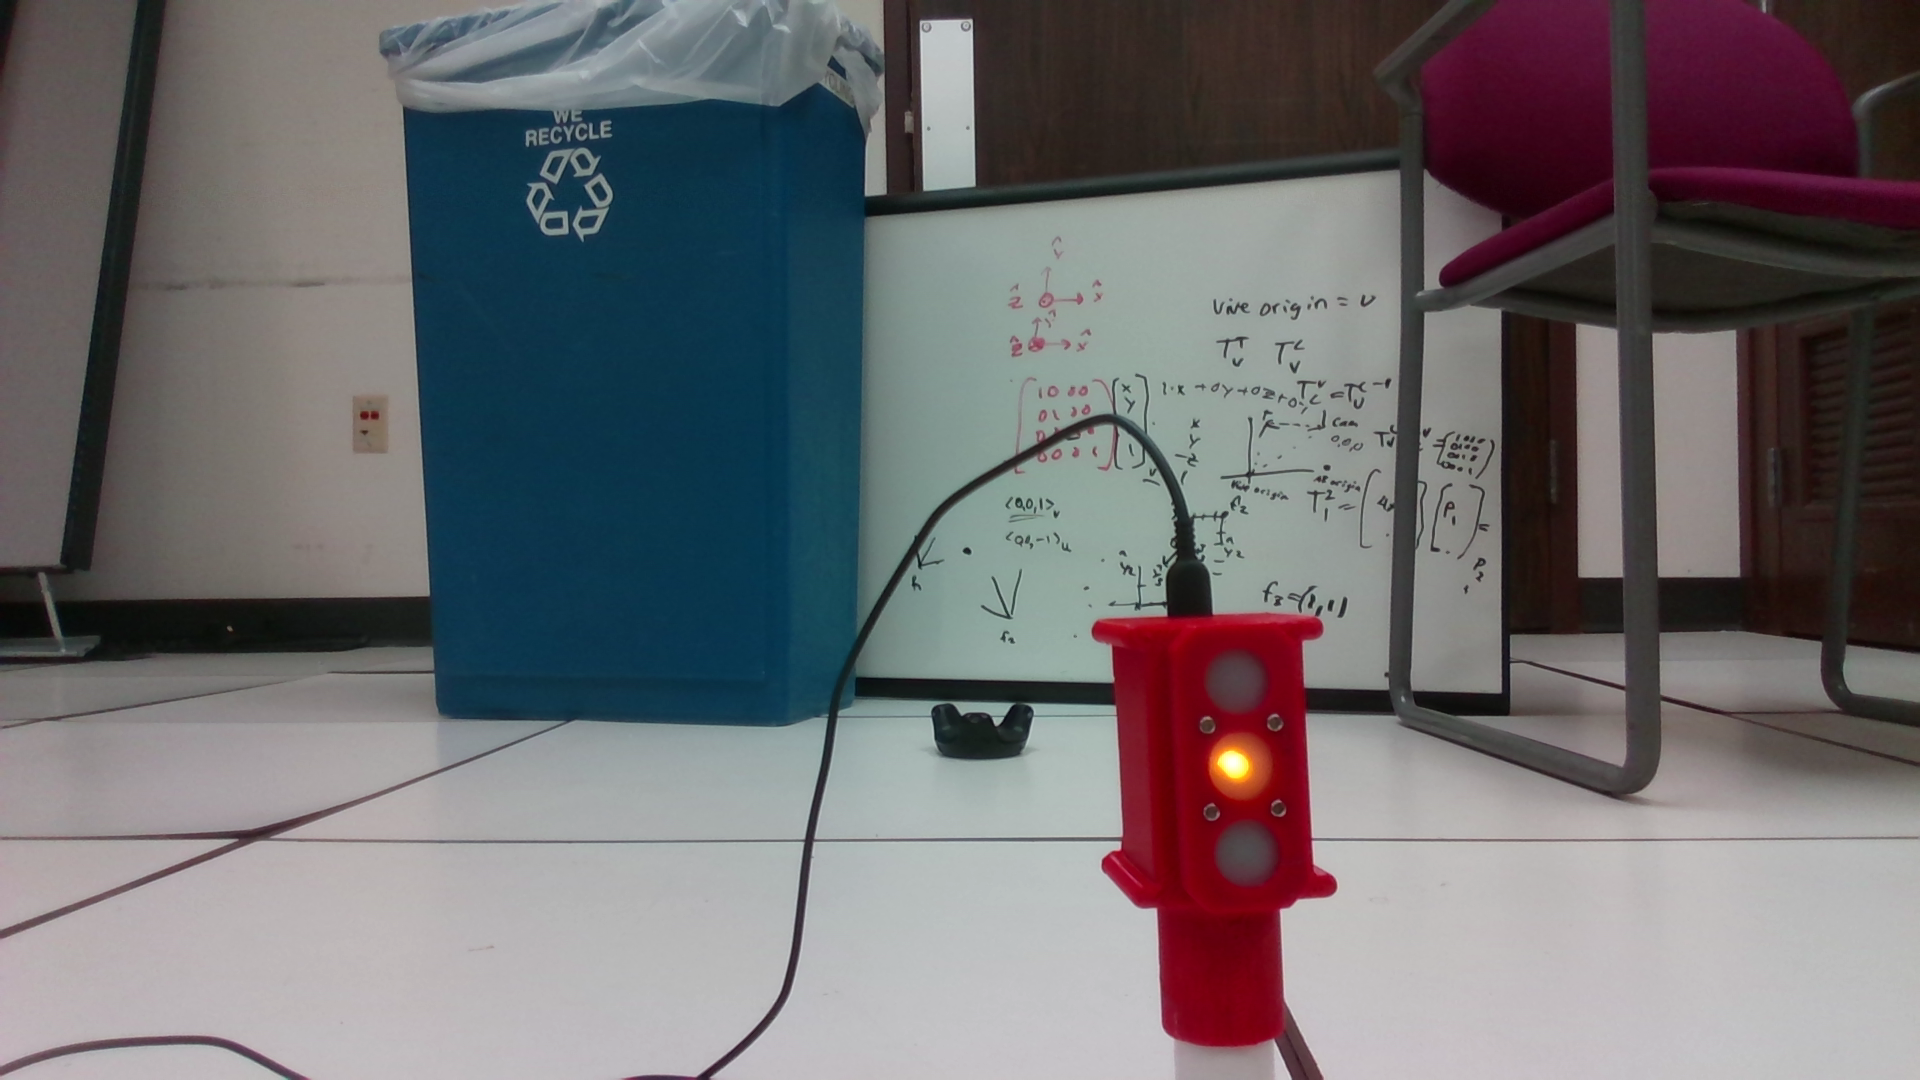stoplight: (1085, 607, 1340, 1054)
